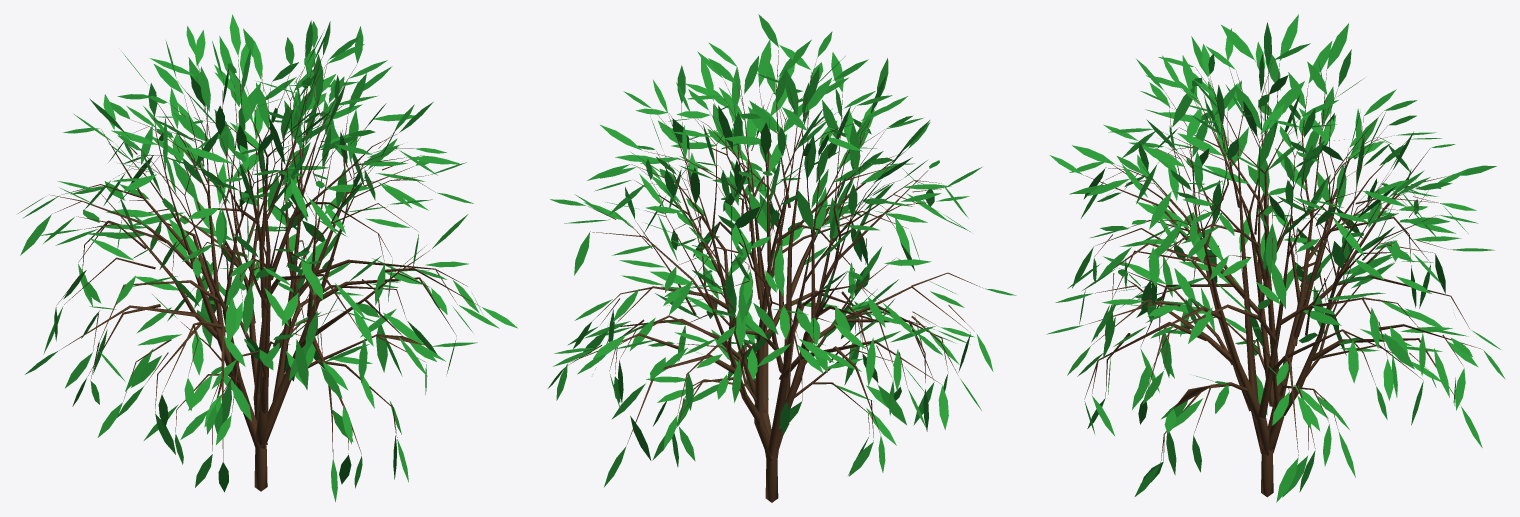
Rendered from tree.fbx.
3 views of the same model, side by side, from view 1: azimuth 30°, elevation 25°; view 2: azimuth 150°, elevation 25°; view 3: azimuth 270°, elevation 25° (orthographic). The views are drawn at different scales.
Visible parts, largest first — view 1: leaves.002, tree.001; view 2: leaves.002, tree.001; view 3: leaves.002, tree.001.
Boxes of the visible parts, x1,y1,x2,y2 form: leaves.002: (18,14,517,501); tree.001: (49,56,480,491); leaves.002: (548,14,1016,487); tree.001: (568,50,983,502); leaves.002: (1047,14,1505,502); tree.001: (1083,61,1482,497).
Size of the model in its own units: 604 by 695 by 629.
